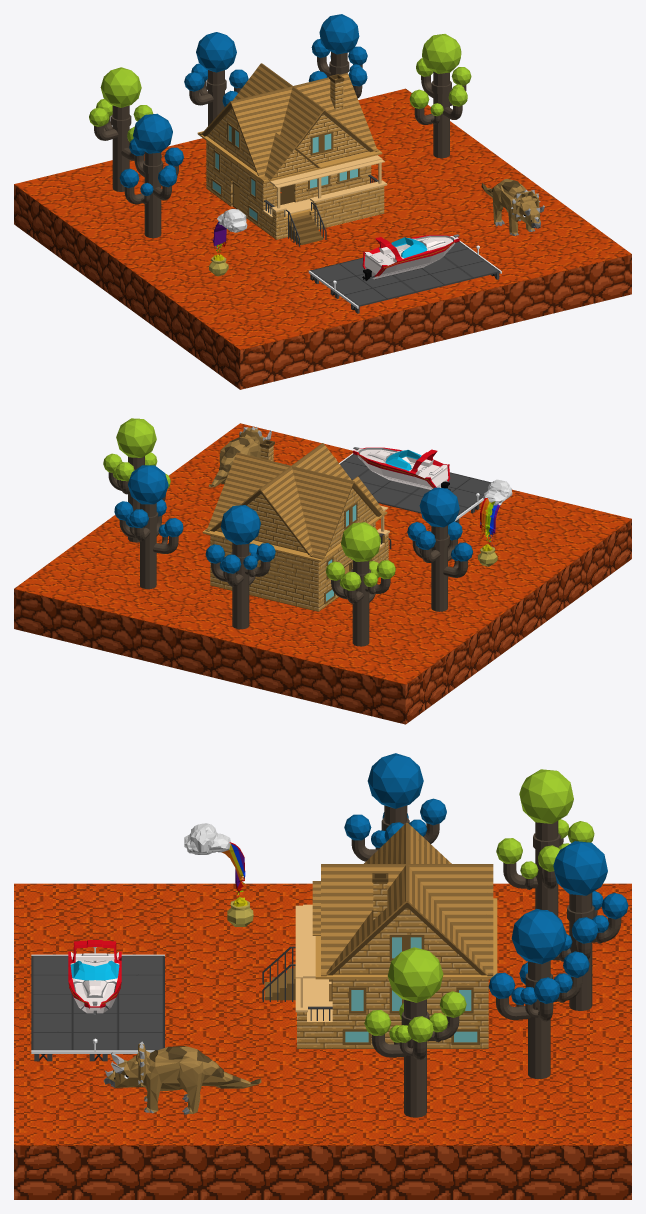
The picture shows the model from 3 angles, top to bottom: view 1: azimuth 30°, elevation 25°; view 2: azimuth 150°, elevation 25°; view 3: azimuth 270°, elevation 25°; orthographic projection. The views are drawn at different scales.
Visible parts, largest first — view 1: Cube.001, Cube.508, VEHICLES_BOAT, ANIMAL_Triceratops, OBJRANDOM_RAINBOW; view 2: Cube.001, Cube.508, VEHICLES_BOAT, OBJRANDOM_RAINBOW, ANIMAL_Triceratops; view 3: Cube.001, Cube.508, ANIMAL_Triceratops, VEHICLES_BOAT, OBJRANDOM_RAINBOW.
Part boxes in pixels (<box>): Cube.001: <box>14,14,631,389</box>; Cube.508: <box>197,63,387,246</box>; VEHICLES_BOAT: <box>362,234,459,280</box>; ANIMAL_Triceratops: <box>481,179,544,235</box>; OBJRANDOM_RAINBOW: <box>209,209,247,276</box>; Cube.001: <box>14,418,631,724</box>; Cube.508: <box>202,439,391,611</box>; VEHICLES_BOAT: <box>353,447,450,490</box>; OBJRANDOM_RAINBOW: <box>478,479,512,566</box>; ANIMAL_Triceratops: <box>208,427,271,487</box>; Cube.001: <box>14,753,631,1199</box>; Cube.508: <box>262,823,497,1048</box>; ANIMAL_Triceratops: <box>103,1041,261,1114</box>; VEHICLES_BOAT: <box>68,940,121,1014</box>; OBJRANDOM_RAINBOW: <box>184,823,253,926</box>.
Size of the model in its own units: 4000 by 1642 by 4000.
Materials: 40 (5 with a texture image).
